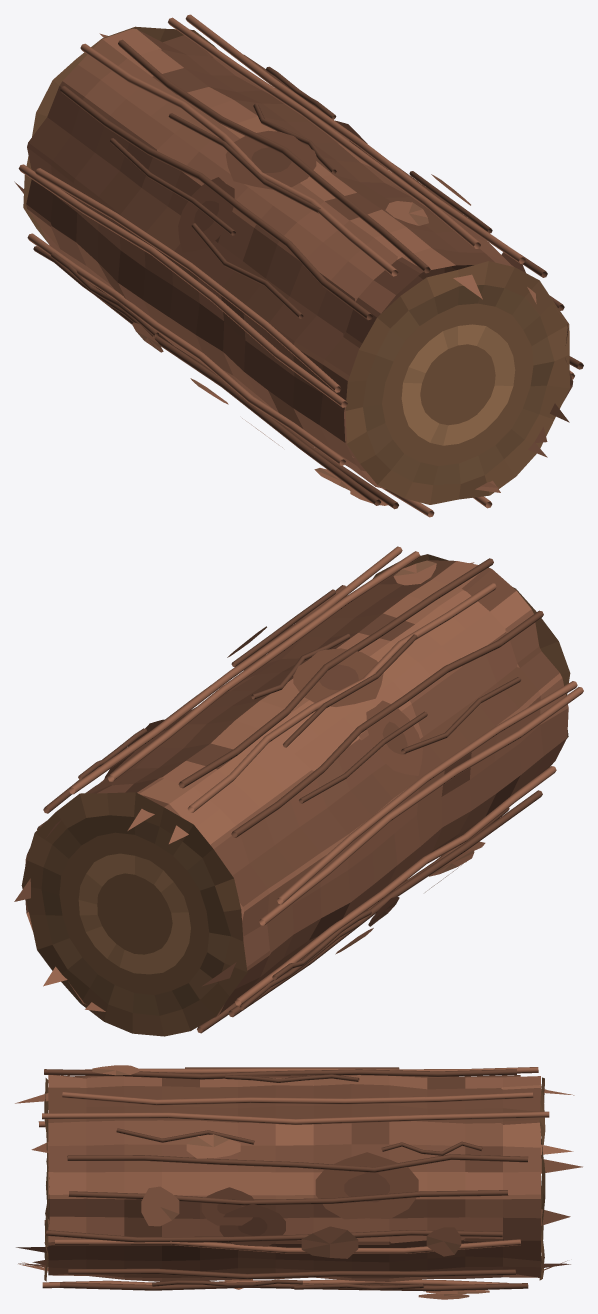
Rendered from YewLog.glb.
3 views of the same model, one above another, from view 1: azimuth 30°, elevation 25°; view 2: azimuth 150°, elevation 25°; view 3: azimuth 270°, elevation 25° (orthographic). The views are drawn at different scales.
Parts seen in each view (by area): view 1: Yew_Log_Rough_ExportTemp; view 2: Yew_Log_Rough_ExportTemp; view 3: Yew_Log_Rough_ExportTemp.
Part boxes in pixels (<box>): Yew_Log_Rough_ExportTemp: <box>14,14,583,517</box>; Yew_Log_Rough_ExportTemp: <box>14,546,583,1036</box>; Yew_Log_Rough_ExportTemp: <box>15,1065,582,1299</box>.
Size of the model in its own units: 0.2589 by 0.2658 by 0.6365.
